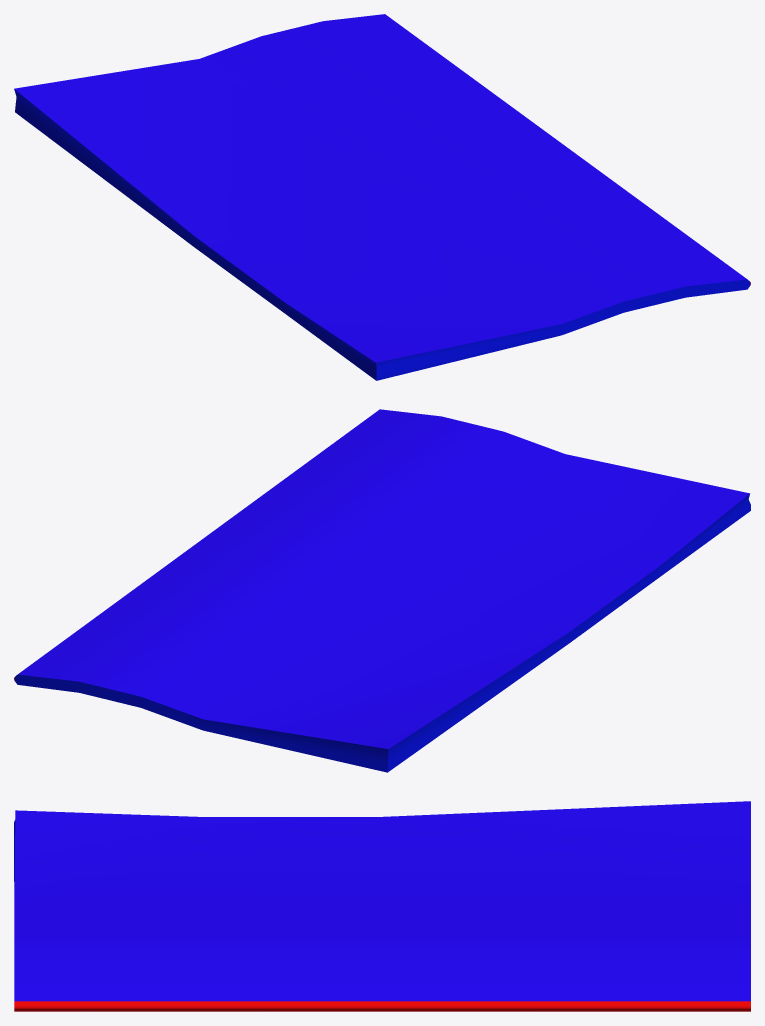
File: Magazine.fbx
3 views of the same model, one above another, from view 1: azimuth 30°, elevation 25°; view 2: azimuth 150°, elevation 25°; view 3: azimuth 270°, elevation 25° (orthographic).
Visible parts, largest first — view 1: Magazine; view 2: Magazine; view 3: Magazine.
Boxes of the visible parts, x1,y1,x2,y2 form: Magazine: (14, 14, 750, 380); Magazine: (14, 409, 750, 772); Magazine: (14, 801, 750, 1011).
Bounding box in the file's own units: 17.49 × 1.2 × 29.32.
